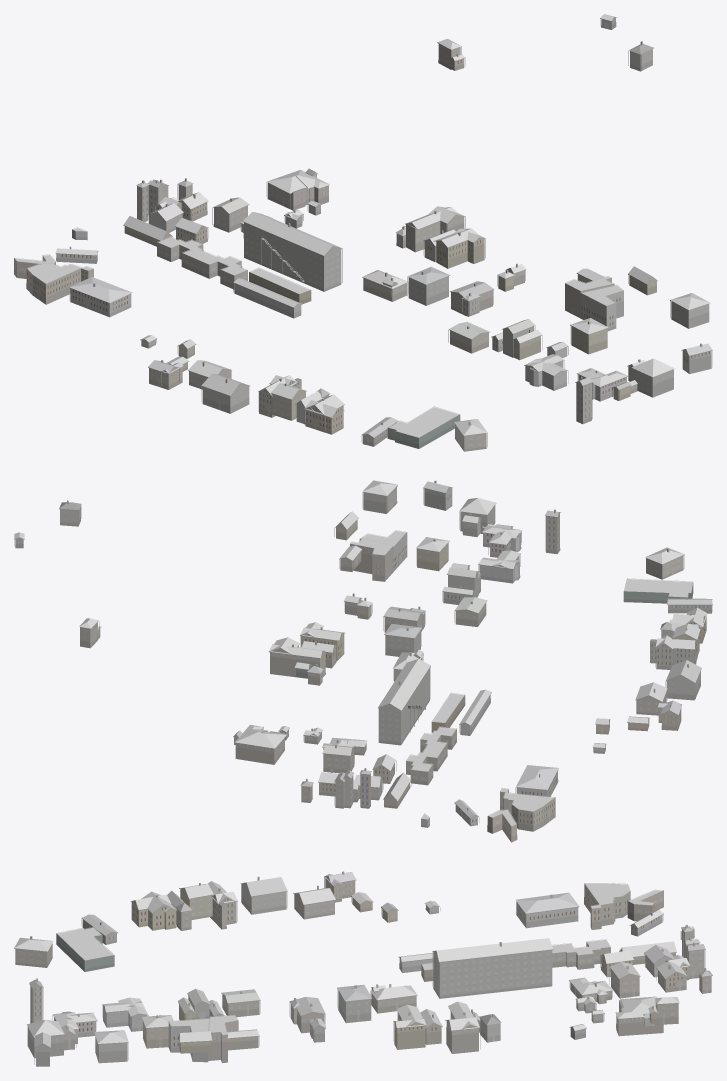
3 renders of one model, top to bottom at view 1: azimuth 30°, elevation 25°; view 2: azimuth 150°, elevation 25°; view 3: azimuth 270°, elevation 25°, orthographic. The views are drawn at different scales.
Parts seen in each view (by area): view 1: bld; view 2: bld; view 3: bld.
Part boxes in pixels (x1,y1,x2,y2): bld: [14, 14, 712, 451]; bld: [14, 480, 712, 842]; bld: [14, 871, 712, 1066].
Bounding box in the file's own units: 260 × 69.19 × 265.
